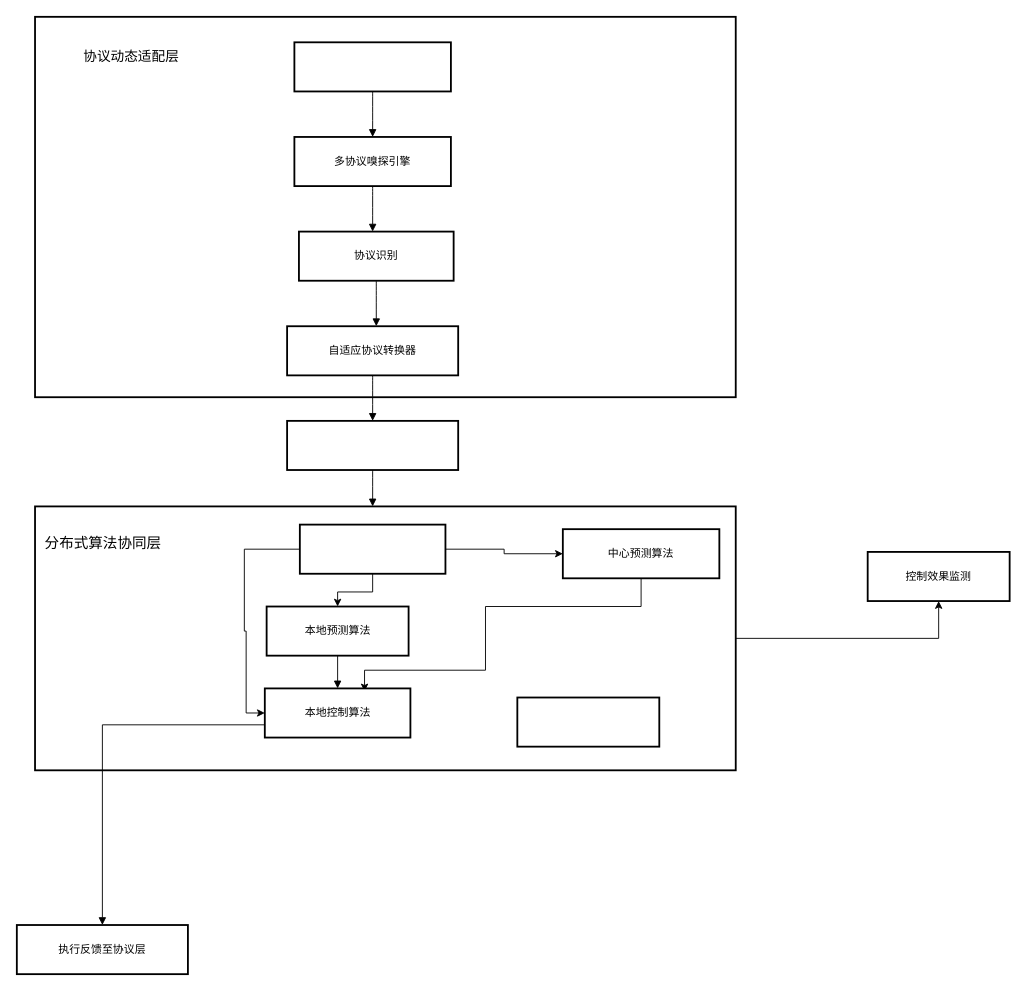
Some shapes in this 1026 by 990 pixel diagram are drawn without their labels. The shapes that lost their labels are listed below. From the top down, each one's centre as x and y in pixels, then its label:
At point (372, 66): "物理总线数据流".
At point (372, 445): "协同总线接口入队(DMA)".
At point (372, 548): "任务协调器".
At point (588, 721): "优化模型下发".
